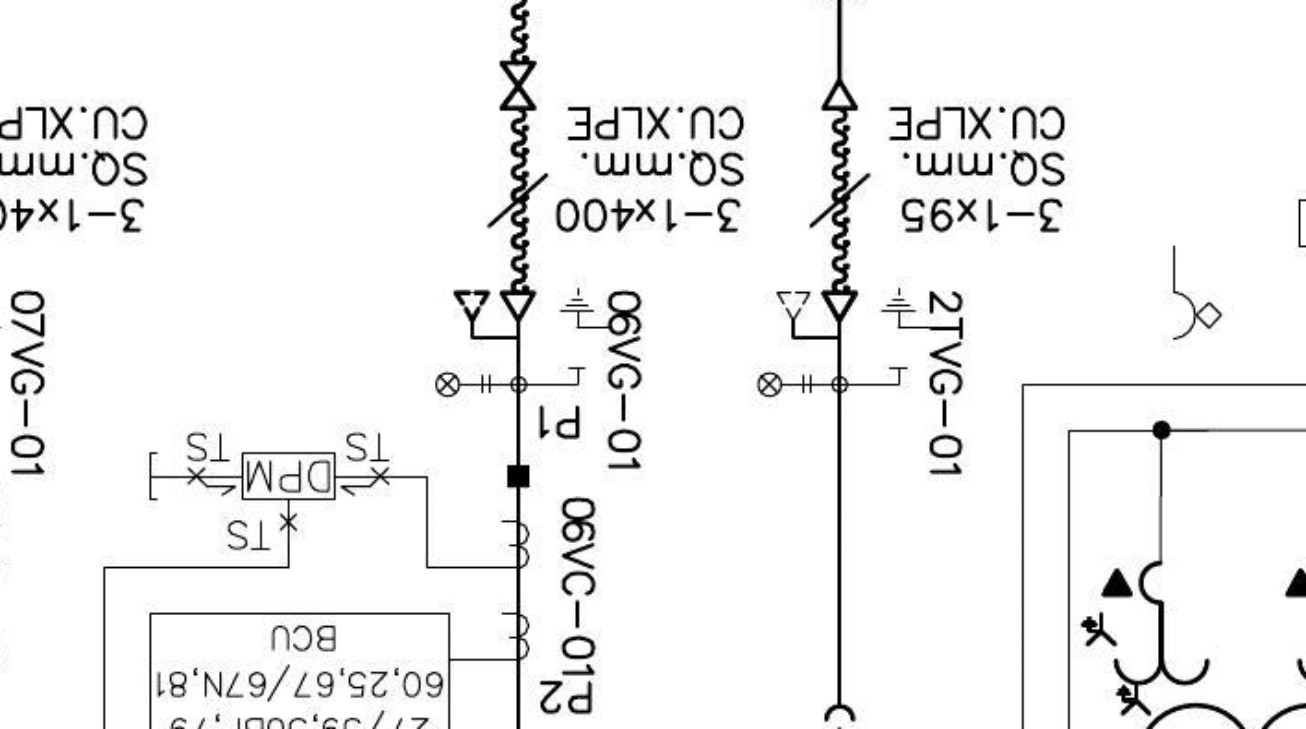22_gs: (558, 286, 610, 371), (881, 286, 932, 370)
22_ll: (756, 371, 814, 399), (434, 371, 492, 399)
DPM: (240, 450, 338, 502)
terminator_single: (817, 77, 859, 113)
terminator_splicing_kits: (499, 59, 538, 111)
terminator_w_future: (773, 290, 860, 344), (453, 288, 539, 342)
